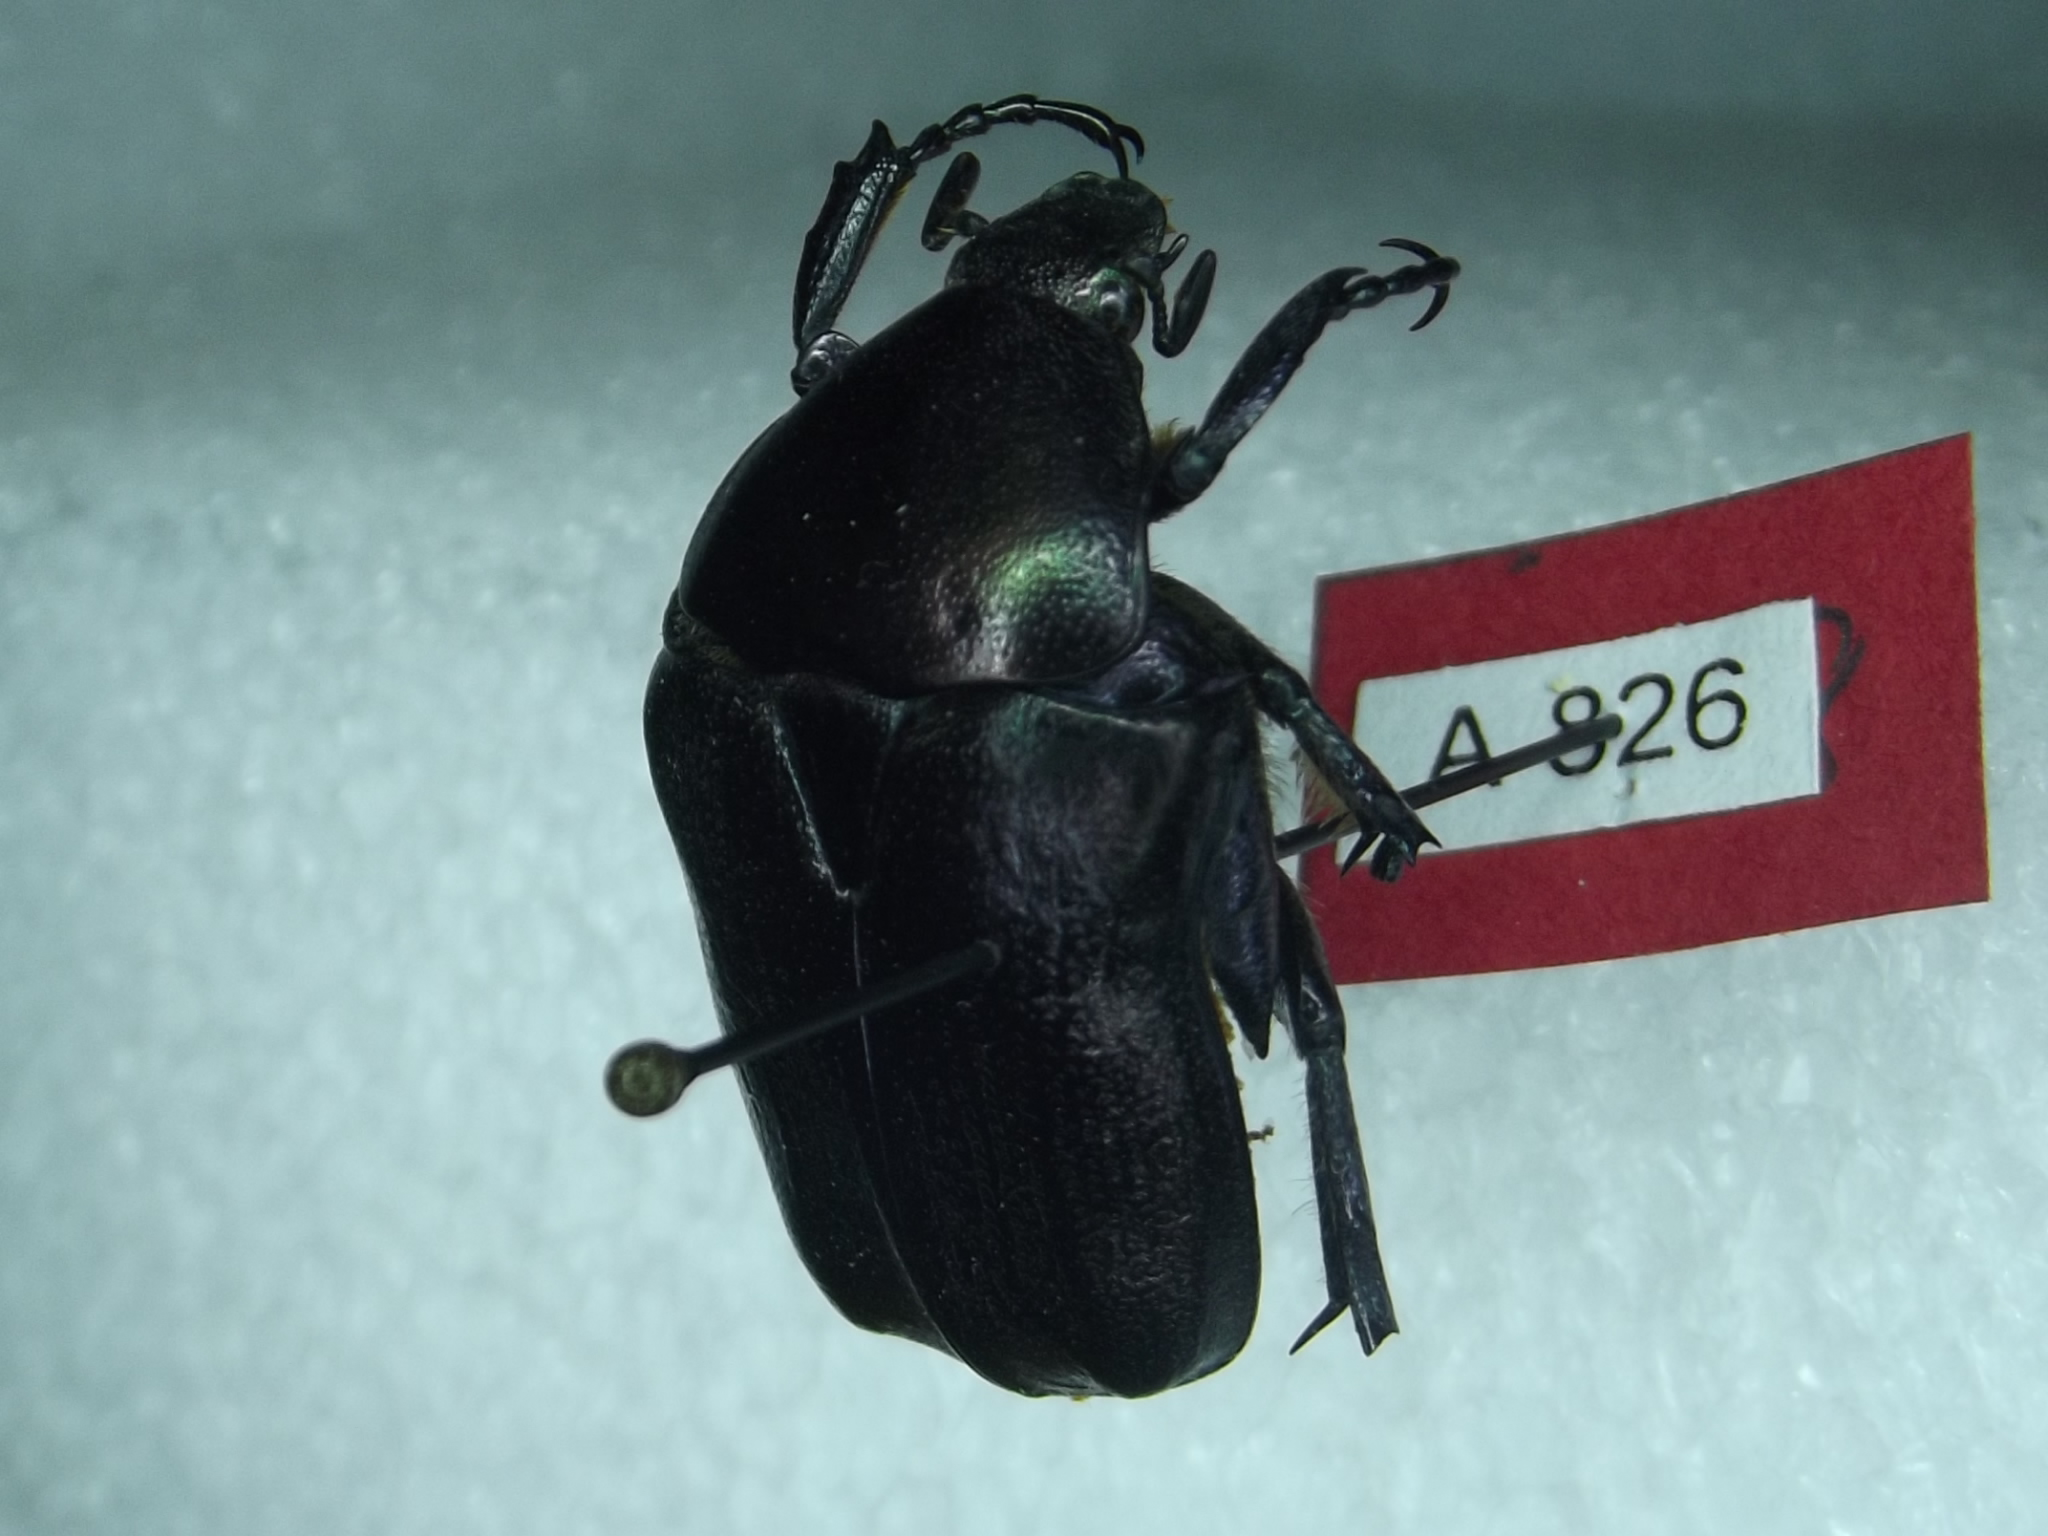Protaetia_besucheti: (627, 40, 1509, 1404)
